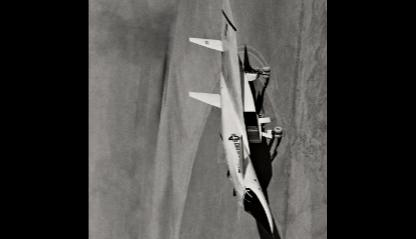U2: (188, 0, 283, 238)
